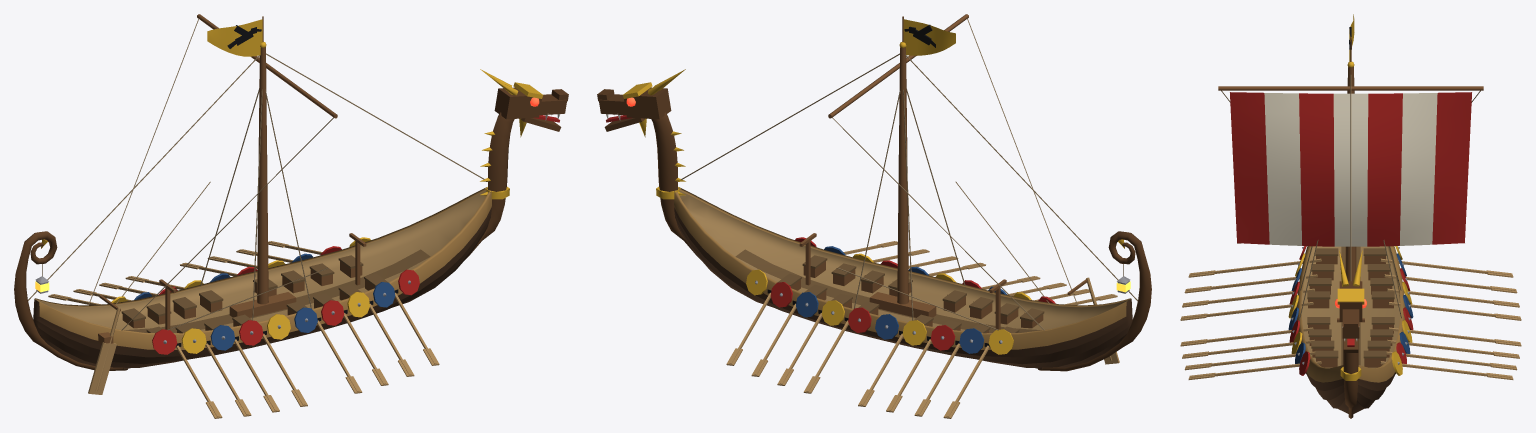
File: longship.glb
3 renders of one model, left to right at view 1: azimuth 30°, elevation 25°; view 2: azimuth 150°, elevation 25°; view 3: azimuth 270°, elevation 25°, orthographic. The views are drawn at different scales.
Visible parts, largest first — view 1: Mesh_DeckAndBulwarks, Mesh_TrimSheerStrake, Mesh_Hull, Mesh_MastPole, Mesh_DragonTail, Mesh_DragonNeck, Mesh_DeckLane, Mesh_Flag_Raven, Mesh_DragonSkull, Mesh_MastFish, Mesh_SteerOarBlade, Mesh_YardArm (+1 smaller); view 2: Mesh_DeckAndBulwarks, Mesh_TrimSheerStrake, Mesh_Hull, Mesh_MastPole, Mesh_DragonTail, Mesh_DragonNeck, Mesh_DeckLane, Mesh_Flag_Raven, Mesh_DragonSkull, Mesh_MastFish, Mesh_YardArm, Mesh_ShieldL0; view 3: Mesh_Sail_Main, Mesh_Sail_Stripe1, Mesh_Sail_Stripe2, Mesh_Sail_Stripe0, Mesh_Sail_Stripe3, Mesh_DeckAndBulwarks, Mesh_TrimSheerStrake, Mesh_Hull, Mesh_YardArm, Mesh_DragonNeck, Mesh_MastPole, Mesh_OarR0Loom (+20 smaller).
Part boxes in pixels (x1=…): Mesh_DeckAndBulwarks: x1=35, y1=190, x2=486, y2=330; Mesh_TrimSheerStrake: x1=34, y1=187, x2=491, y2=349; Mesh_Hull: x1=33, y1=207, x2=491, y2=367; Mesh_MastPole: x1=257, y1=47, x2=268, y2=304; Mesh_DragonTail: x1=14, y1=231, x2=127, y2=370; Mesh_DragonNeck: x1=465, y1=112, x2=514, y2=259; Mesh_DeckLane: x1=124, y1=249, x2=430, y2=332; Mesh_Flag_Raven: x1=207, y1=19, x2=262, y2=56; Mesh_DragonSkull: x1=494, y1=87, x2=541, y2=119; Mesh_MastFish: x1=229, y1=292, x2=296, y2=317; Mesh_SteerOarBlade: x1=88, y1=342, x2=116, y2=394; Mesh_YardArm: x1=197, y1=14, x2=337, y2=118; Mesh_DeckAndBulwarks: x1=679, y1=190, x2=1130, y2=330; Mesh_TrimSheerStrake: x1=674, y1=187, x2=1131, y2=349; Mesh_Hull: x1=674, y1=207, x2=1132, y2=367; Mesh_MastPole: x1=897, y1=47, x2=908, y2=304; Mesh_DragonTail: x1=1038, y1=231, x2=1151, y2=371; Mesh_DragonNeck: x1=651, y1=112, x2=700, y2=259; Mesh_DeckLane: x1=735, y1=249, x2=1041, y2=332; Mesh_Flag_Raven: x1=903, y1=19, x2=955, y2=55; Mesh_DragonSkull: x1=624, y1=87, x2=671, y2=119; Mesh_MastFish: x1=869, y1=292, x2=936, y2=317; Mesh_YardArm: x1=828, y1=14, x2=968, y2=118; Mesh_ShieldL0: x1=988, y1=329, x2=1013, y2=354; Mesh_Sail_Main: x1=1264, y1=93, x2=1437, y2=246; Mesh_Sail_Stripe1: x1=1367, y1=93, x2=1402, y2=246; Mesh_Sail_Stripe2: x1=1299, y1=93, x2=1334, y2=246; Mesh_Sail_Stripe0: x1=1432, y1=92, x2=1471, y2=244; Mesh_Sail_Stripe3: x1=1230, y1=92, x2=1269, y2=244; Mesh_DeckAndBulwarks: x1=1301, y1=246, x2=1400, y2=368; Mesh_TrimSheerStrake: x1=1296, y1=246, x2=1405, y2=382; Mesh_Hull: x1=1306, y1=372, x2=1395, y2=413; Mesh_YardArm: x1=1218, y1=86, x2=1483, y2=90; Mesh_DragonNeck: x1=1343, y1=339, x2=1358, y2=418; Mesh_MastPole: x1=1345, y1=67, x2=1356, y2=281; Mesh_OarR0Loom: x1=1188, y1=258, x2=1321, y2=277.
Bounding box in the file's own units: 24.36 × 13.54 × 13.51.
